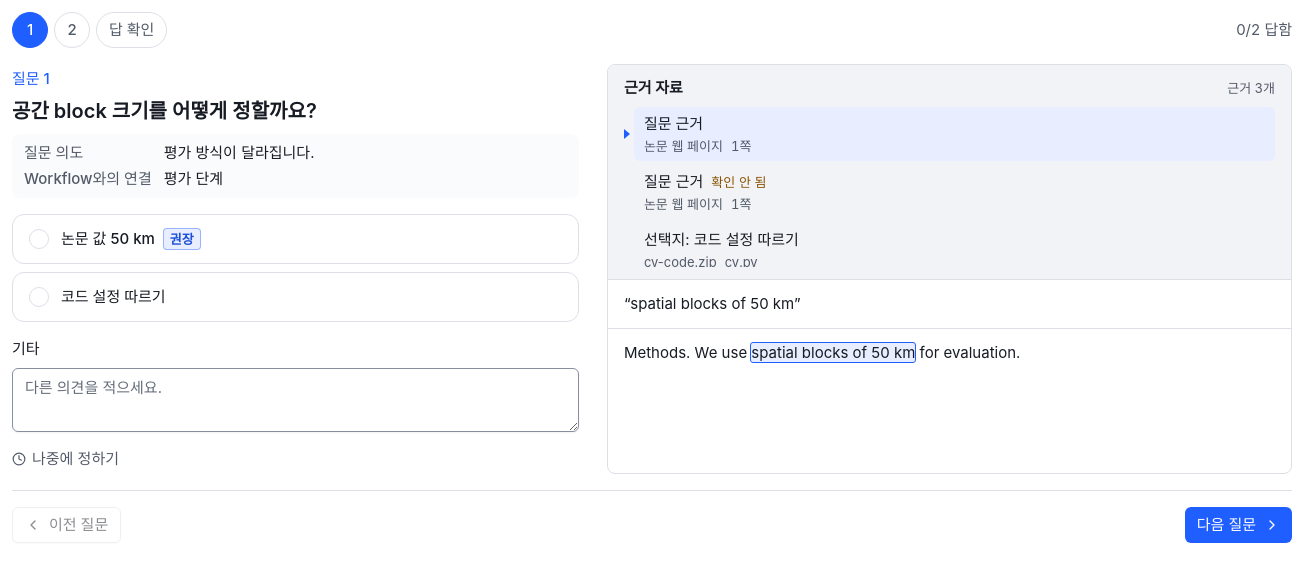
authoring question evidence viewer › shows the cited passage beside the question, moves to an option's passage and says what was not found
The image size is (1304, 563).
Check: the text "근거 3개" is shown, box [1227, 79, 1275, 97]
Check: the text "spatial blocks of 50 km" next to "Methods. We use" is shown, box [751, 343, 915, 362]
Note: Choosing an option with its own passage moves the viewer to the code line.
Step 1. Click the radio button labelled "코드 설정 따르기" → click(113, 296), box [12, 272, 579, 322]
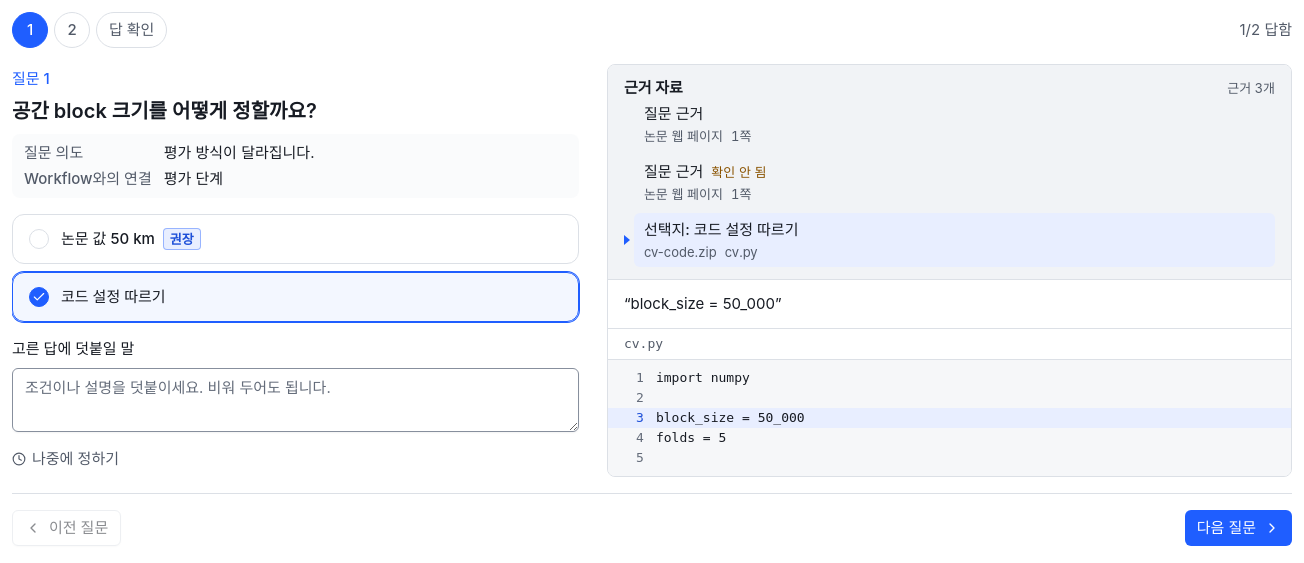
Check: the button "선택지: 코드 설정 따르기 cv-code.zip cv.py" is shown, box [634, 213, 1275, 267]
Check: the text "3" is shown, box [636, 410, 644, 425]
Note: An unconfirmed quote is shown as such, and its page is not marked.
Step 2. Click the button "질문 근거 확인 안 됨 논문 웹 페이지 1쪽" → click(674, 172), box [634, 155, 1275, 209]
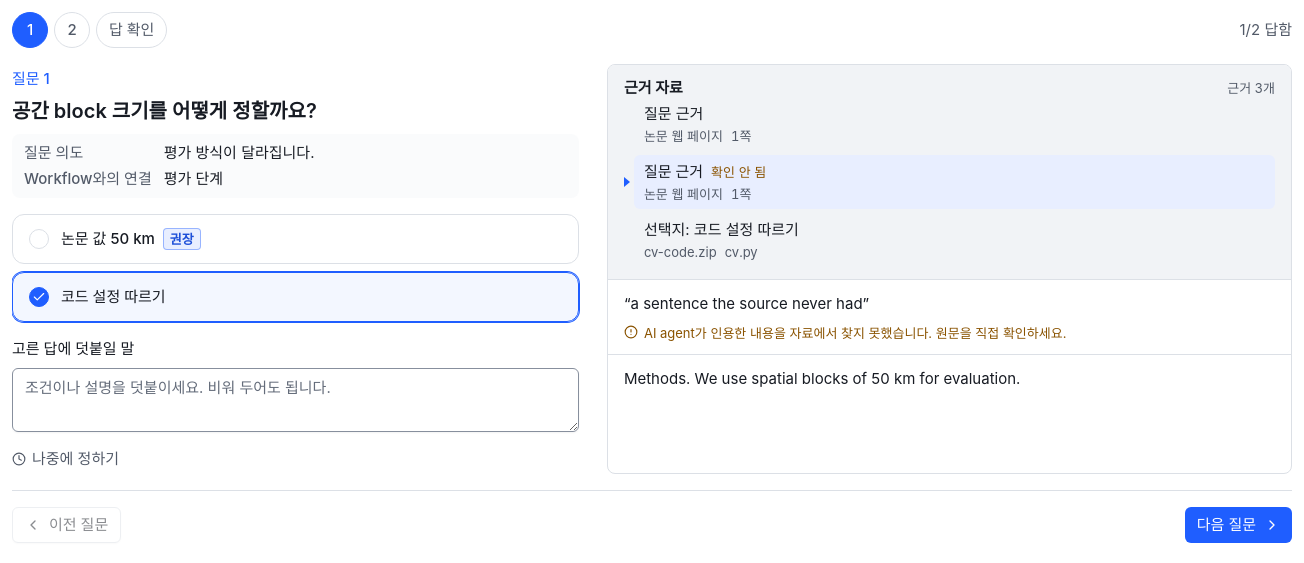
Check: the text "AI agent가 인용한 내용을 자료에서 찾지 못했습니다. 원문을 직접 확인하세요." is shown, box [624, 325, 1066, 341]
Note: GAID's own question cites no passage and says so.
Step 3. Click the tab named "질문 2" → click(72, 30), box [54, 12, 90, 48]
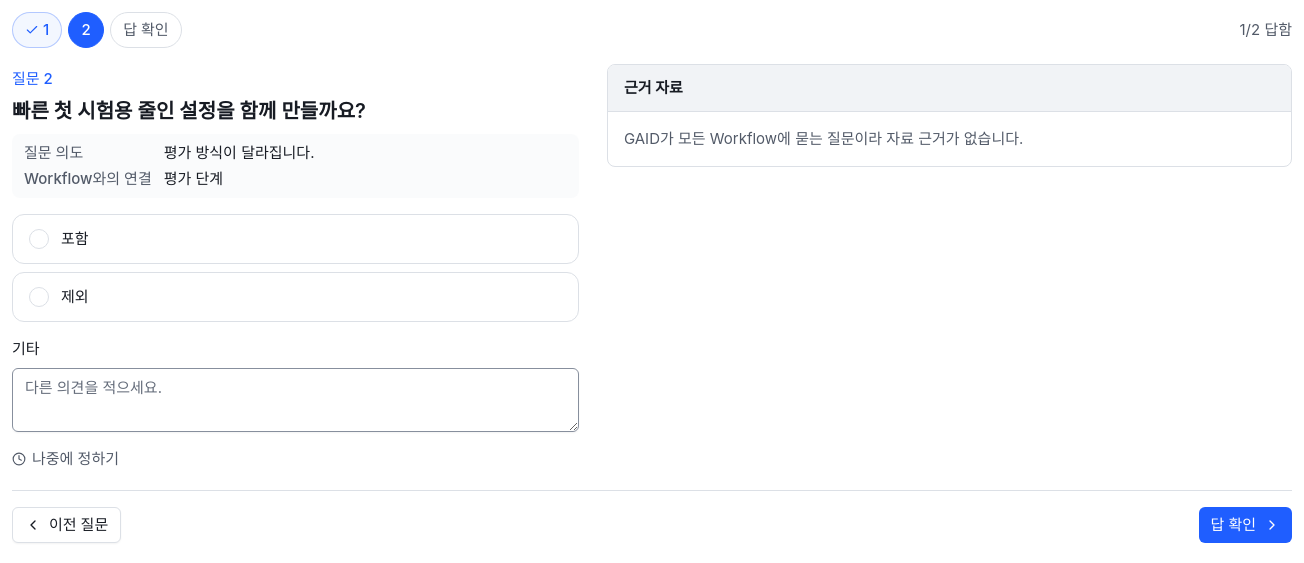
Check: the text "GAID가 모든 Workflow에 묻는 질문이라 자료 근거가 없습니다." is shown, box [624, 129, 1023, 148]
